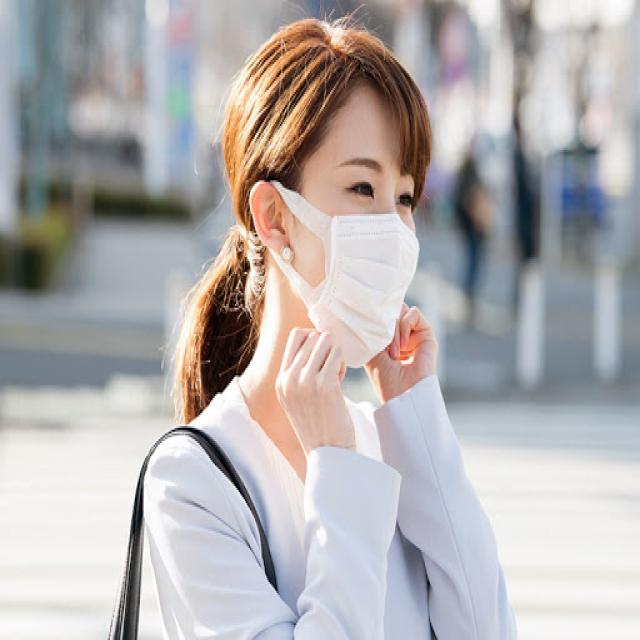Nonhelmet: (224, 9, 439, 372)
